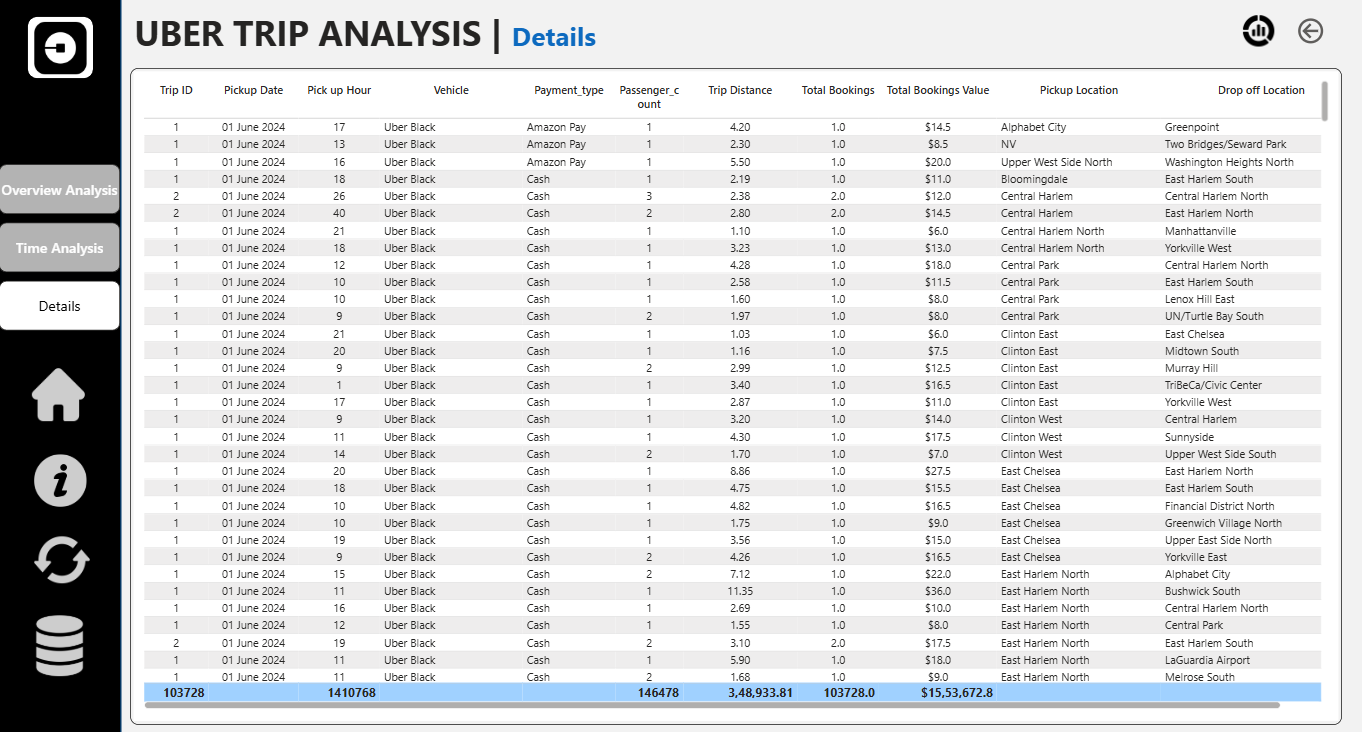

The dashboard page shown, as its layout file describes it:
{"tool":"powerbi","page":{"name":"Details","canvas":[1670,900],"ordinal":2},"visuals":[{"type":"shape","box":[160.6,85,1481.4,802.9],"z":0},{"type":"shape","box":[0,0,149.6,900.5],"z":1000},{"type":"textbox","box":[160.6,7.9,859.6,77.1],"z":2000},{"type":"tableEx","fields":{"Values":["CountNonNull(Trip Details.Trip ID)","Trip Details.Pickip Date","Sum(Trip Details.pick up Hour)","Trip Details.Vehicle","Trip Details.Payment_type","Sum(Trip Details.passenger_count)","Trip Details.Total Trip Distance Measure","Trip Details.Total Bookings","Trip Details.Total Bookings Value","Location Table.Location","Trip Details.Drop off Location"]},"box":[171.6,96,1459.4,777.7],"z":3000},{"type":"actionButton","box":[1583.8,20.4,48.6,40.7],"z":4000},{"type":"image","box":[1516.5,14.1,48.6,53.3],"z":5000},{"type":"shape","box":[34.5,23.5,79.9,75.2],"z":6000},{"type":"image","box":[34.5,25.1,79.9,73.6],"z":7000},{"type":"pageNavigator","box":[0,203.7,148.8,203.7],"z":8000},{"type":"image","box":[30.6,447.9,84.1,74.9],"z":9000},{"type":"image","box":[37.6,553,73.6,73.6],"z":10000},{"type":"image","box":[38.2,645,78,84.1],"z":11000},{"type":"image","box":[32.1,742.9,84.1,97.8],"z":12000}]}

Visuals, with their boxes on the page's 1670x900 design canvas (x1, y1, x2, y2). These are canvas units, not pixel positions in the 1362x732 screenshot, which may show the page scaled, cropped or inside an application window:
shape: crop(161, 85, 1642, 888)
shape: crop(0, 0, 150, 900)
textbox: crop(161, 8, 1020, 85)
tableEx - CountNonNull(Trip Details.Trip ID) x Trip Details.Pickip Date: crop(172, 96, 1631, 874)
actionButton: crop(1584, 20, 1632, 61)
image: crop(1516, 14, 1565, 67)
shape: crop(34, 24, 114, 99)
image: crop(34, 25, 114, 99)
pageNavigator: crop(0, 204, 149, 407)
image: crop(31, 448, 115, 523)
image: crop(38, 553, 111, 627)
image: crop(38, 645, 116, 729)
image: crop(32, 743, 116, 841)
